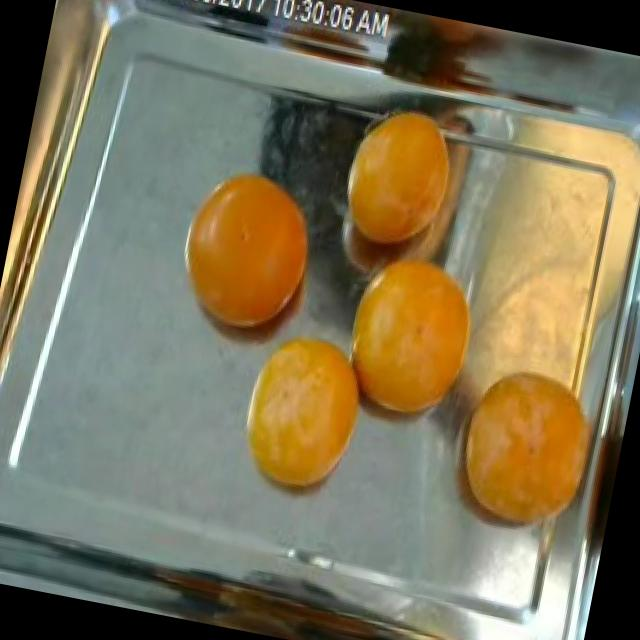Fruit: (151, 140, 343, 372), (316, 228, 494, 452), (218, 308, 382, 518), (319, 89, 474, 285)
